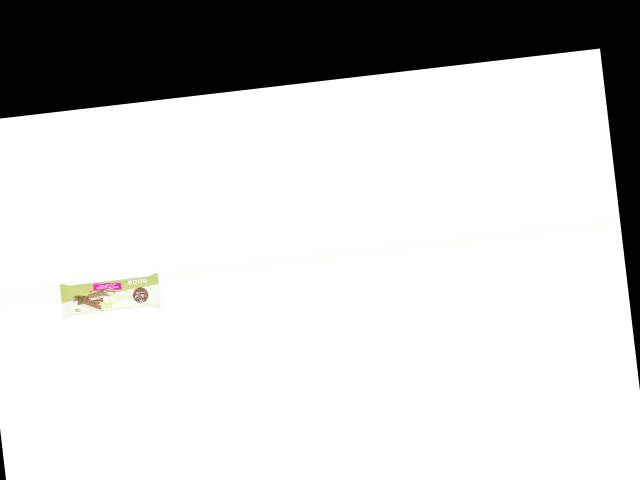chocolate: (57, 269, 161, 321)
